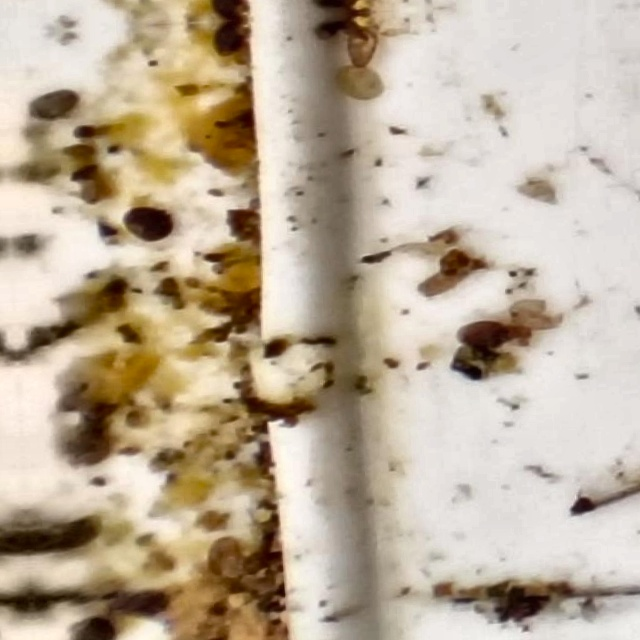varroa: (202, 19, 268, 61), (442, 317, 513, 353), (119, 206, 178, 246)
